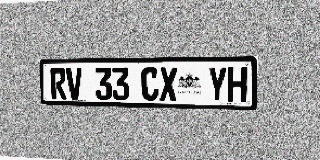3: (112, 67, 129, 100), (95, 68, 112, 100)
C: (141, 67, 159, 101)
H: (227, 67, 247, 102)
R: (50, 68, 67, 99)
V: (66, 68, 83, 100)
X: (159, 67, 177, 101)
Y: (208, 67, 227, 102)
